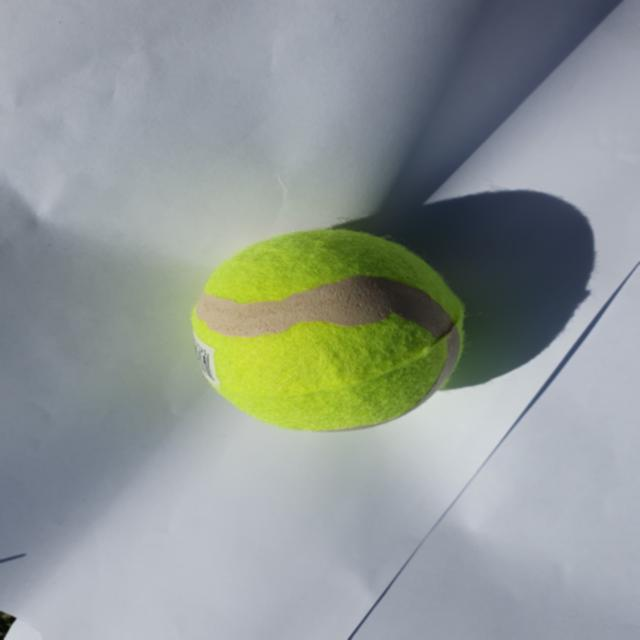green: (192, 228, 464, 432)
